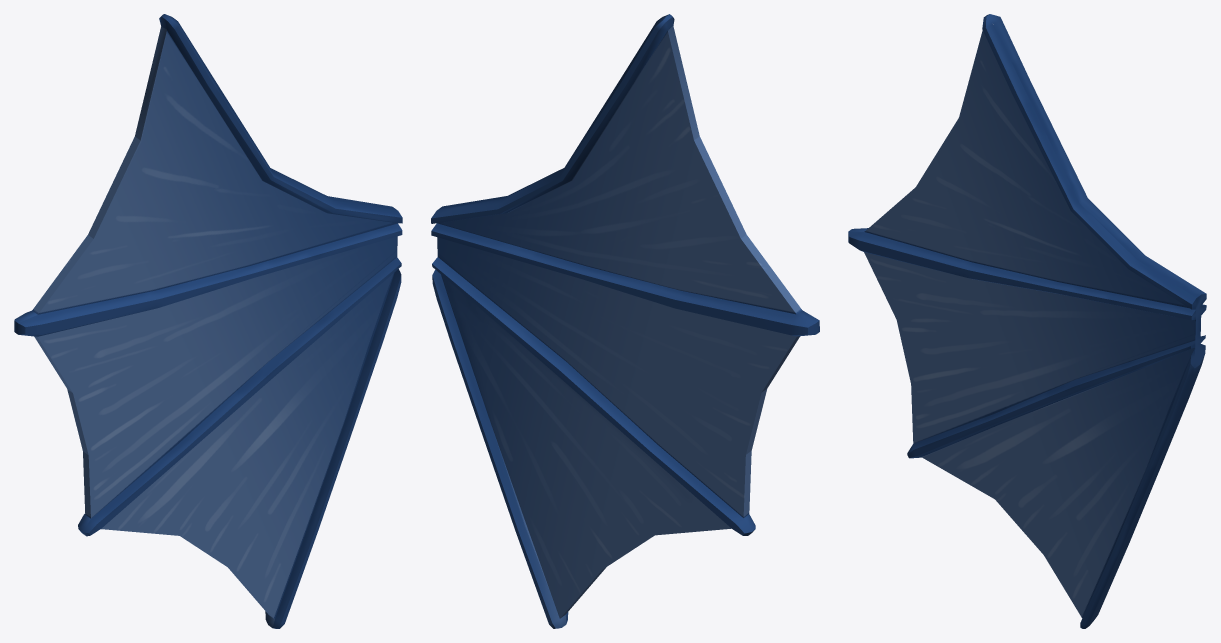
File: Pot_WaterFeat_R_arm01.fbx
3 renders of one model, left to right at view 1: azimuth 30°, elevation 25°; view 2: azimuth 150°, elevation 25°; view 3: azimuth 330°, elevation 25°, orthographic. The views are drawn at different scales.
Parts seen in each view (by area): view 1: Pot_WaterFeat_R_arm01; view 2: Pot_WaterFeat_R_arm01; view 3: Pot_WaterFeat_R_arm01.
Boxes of the visible parts, x1=… form: Pot_WaterFeat_R_arm01: x1=14, y1=14, x2=402, y2=628; Pot_WaterFeat_R_arm01: x1=431, y1=14, x2=819, y2=628; Pot_WaterFeat_R_arm01: x1=848, y1=14, x2=1206, y2=628.
Bounding box in the file's own units: 21.77 × 35.04 × 1.59.
Materials: 1 (1 with a texture image).
